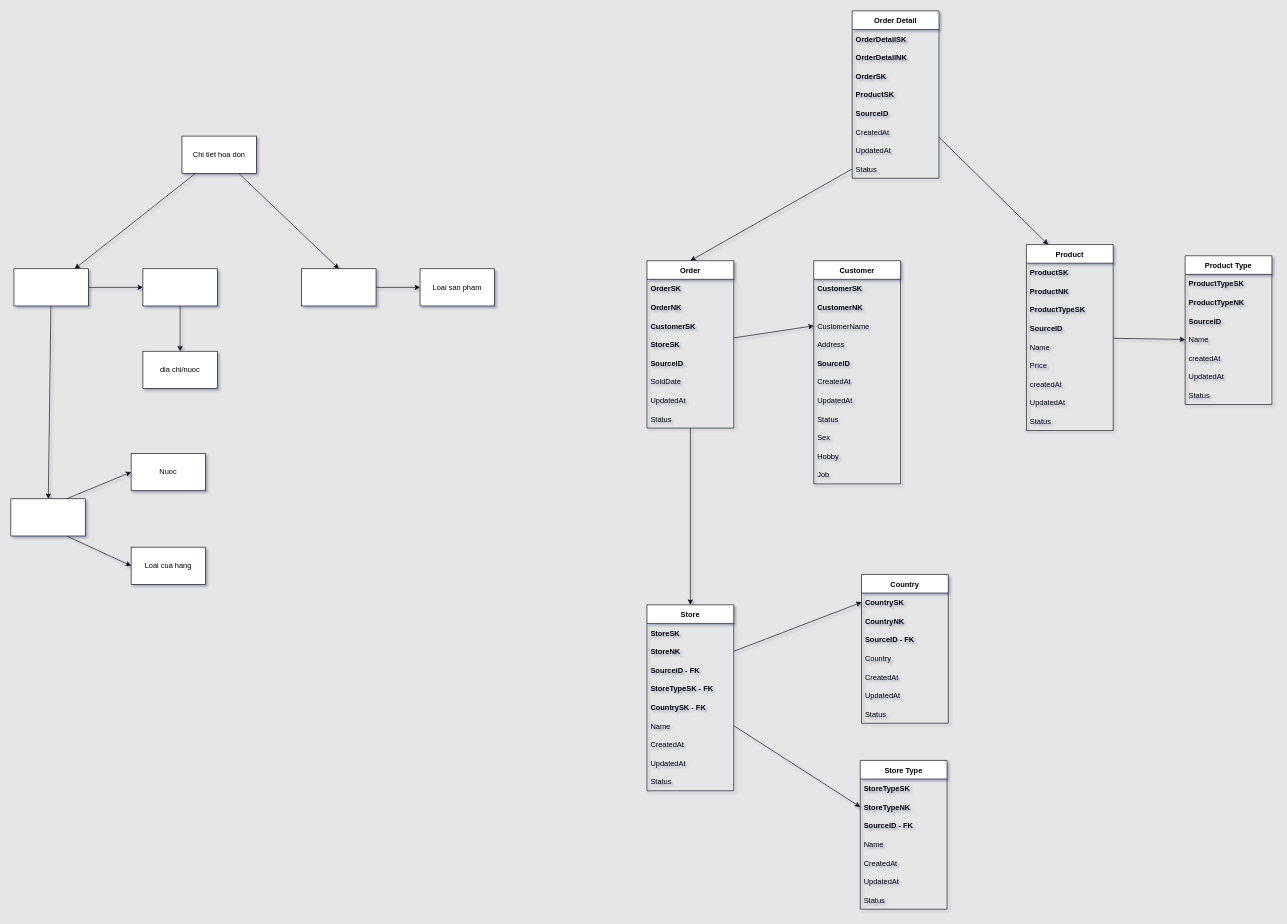
This 1287x924 diagram has some shape labels left out. Each missing label, with the box of its shape:
Cua hang: (10, 498, 85, 536)
Hoa don: (13, 268, 88, 306)
Khach hang: (142, 268, 217, 306)
San pham: (301, 268, 376, 306)
